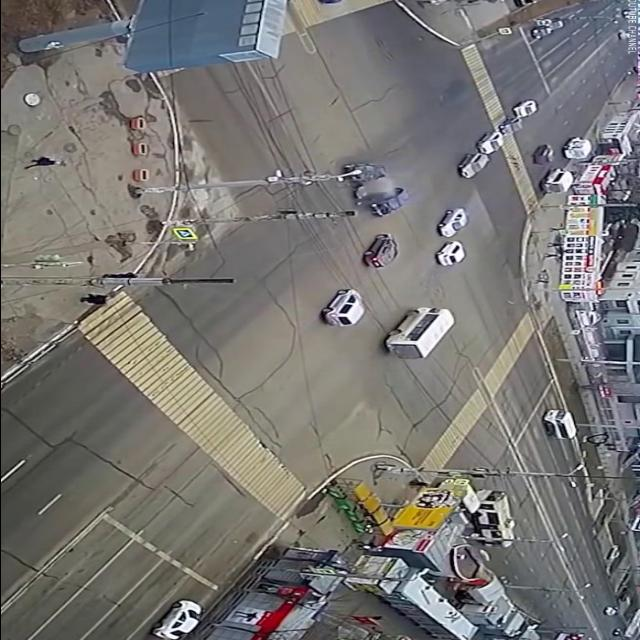accident: (324, 158, 420, 222)
non_accident: (450, 98, 546, 182)
